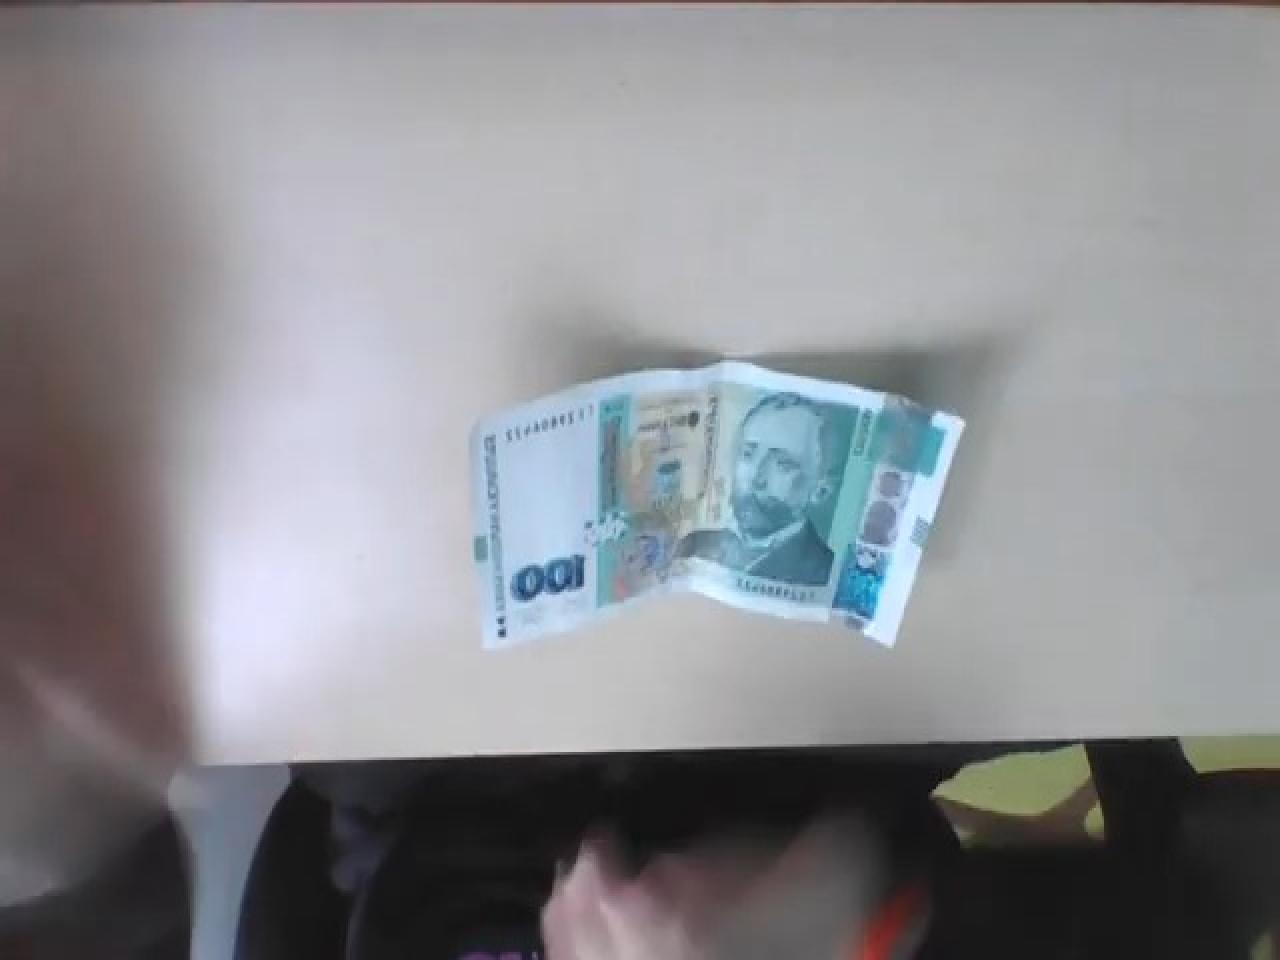100leva: (468, 360, 966, 656), (508, 555, 586, 605)
